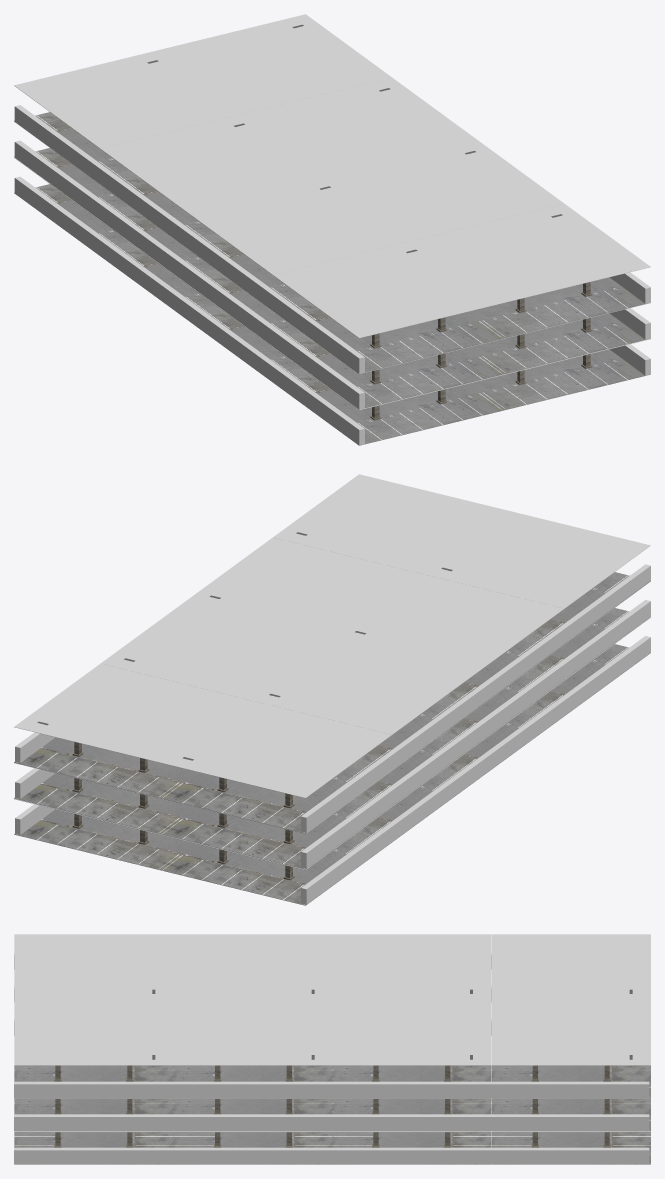
The model's file is GedungParkir.glb.
3 renders of one model, top to bottom at view 1: azimuth 30°, elevation 25°; view 2: azimuth 150°, elevation 25°; view 3: azimuth 270°, elevation 25°, orthographic. The views are drawn at different scales.
Visible parts, largest first — view 1: Cube.117, Cube.162, Cube.148, Cube.134, Cube.159, Cube.120, Cube.131, Cube.145, Cube.168, Cube.171, Cube.173, Cube.112 (+17 smaller); view 2: Cube.159, Cube.148, Cube.117, Cube.145, Cube.134, Cube.162, Cube.120, Cube.131, Cube.171, Cube.168, Cube.173, Cube.042 (+17 smaller); view 3: Cube.170, Cube.169, Cube.172, Cube.131, Cube.134, Cube.148, Cube.145, Cube.120, Cube.117, Cube.159, Cube.162, Cube.153 (+11 smaller).
Part boxes in pixels (box(x1,y1,x2,y2)): Cube.117: box(273, 239, 505, 338); Cube.162: box(101, 113, 332, 211); Cube.148: box(160, 14, 391, 112); Cube.134: box(418, 203, 650, 302); Cube.159: box(14, 50, 245, 148); Cube.120: box(187, 176, 418, 274); Cube.131: box(332, 140, 563, 238); Cube.145: box(246, 77, 477, 175); Cube.168: box(14, 140, 364, 409); Cube.171: box(14, 176, 364, 445); Cube.173: box(14, 105, 364, 373); Cube.112: box(273, 301, 505, 373); Cube.159: box(160, 699, 391, 798); Cube.148: box(14, 663, 246, 762); Cube.117: box(418, 509, 650, 608); Cube.145: box(101, 601, 332, 699); Cube.134: box(273, 474, 504, 572); Cube.162: box(246, 636, 477, 734); Cube.120: box(333, 573, 563, 671); Cube.131: box(186, 537, 417, 635); Cube.171: box(301, 636, 650, 904); Cube.168: box(301, 600, 650, 868); Cube.173: box(301, 564, 650, 832); Cube.042: box(159, 833, 391, 905); Cube.170: box(14, 1147, 649, 1164); Cube.169: box(14, 1114, 649, 1130); Cube.172: box(14, 1081, 649, 1097); Cube.131: box(173, 999, 333, 1065); Cube.134: box(14, 999, 173, 1065); Cube.148: box(491, 999, 650, 1065); Cube.145: box(332, 999, 491, 1065); Cube.120: box(173, 934, 333, 999); Cube.117: box(14, 934, 173, 999); Cube.159: box(491, 934, 650, 999); Cube.162: box(332, 934, 491, 999); Cube.153: box(491, 1065, 650, 1098).
Size of the model in its own units: 296 by 105 by 608.
Materials: 96 (48 with a texture image).
